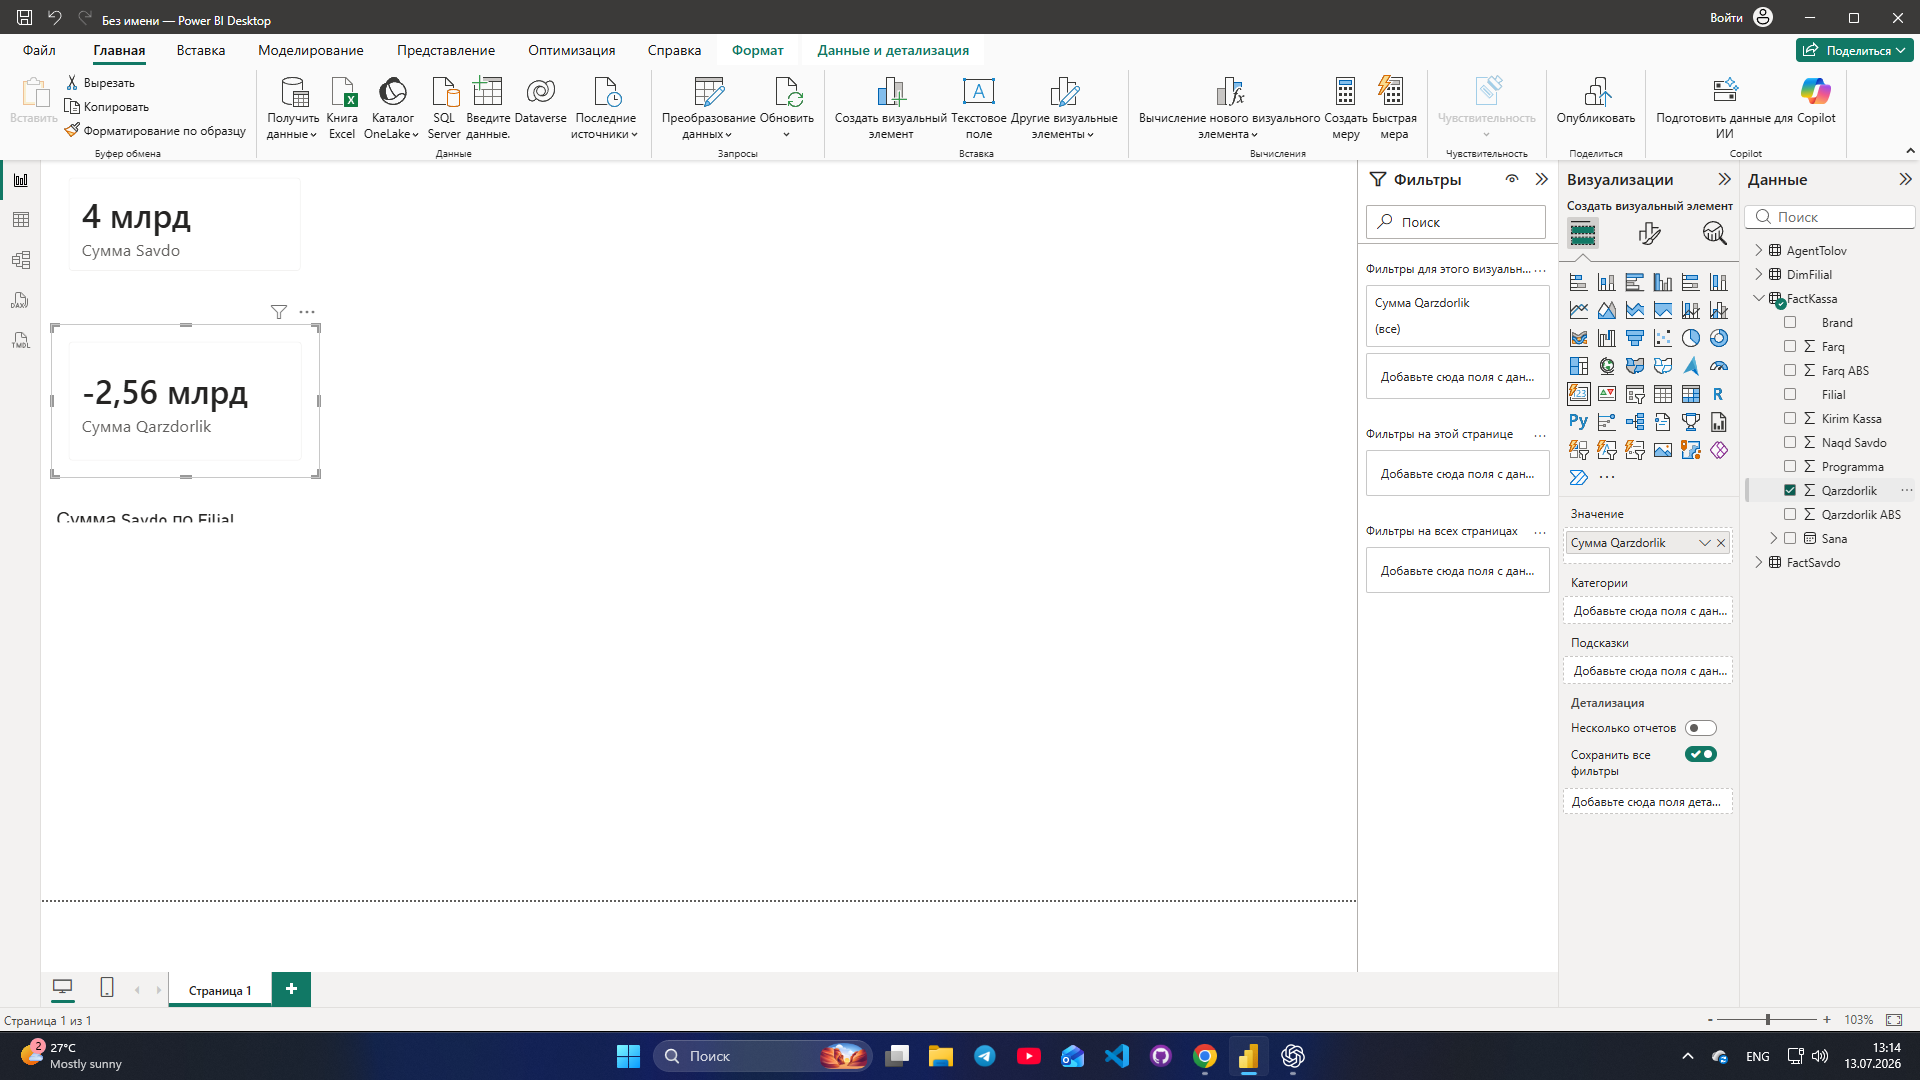

The dashboard page shown, as its layout file describes it:
{"tool":"powerbi","page":{"name":"Страница 1","canvas":[1280,720],"ordinal":0},"visuals":[{"type":"cardVisual","fields":{"Data":["Sum(FactSavdo.Savdo)"]},"box":[9.7,0,260.7,125.5],"z":0},{"type":"cardVisual","fields":{"Data":["Sum(FactKassa.Qarzdorlik)"]},"box":[10,159.5,261,150],"z":2},{"type":"clusteredColumnChart","fields":{"Category":["FactSavdo.Filial"],"Y":["Sum(FactSavdo.Savdo)"]},"box":[10,10,1157,150],"z":3}]}

Visuals, with their boxes on the page's 1280x720 design canvas (x1, y1, x2, y2). These are canvas units, not pixel positions in the 1920x1080 screenshot, which may show the page scaled, cropped or inside an application window:
cardVisual - Sum(FactSavdo.Savdo): rect(10, 0, 270, 126)
cardVisual - Sum(FactKassa.Qarzdorlik): rect(10, 160, 271, 310)
clusteredColumnChart - FactSavdo.Filial x Sum(FactSavdo.Savdo): rect(10, 10, 1167, 160)
